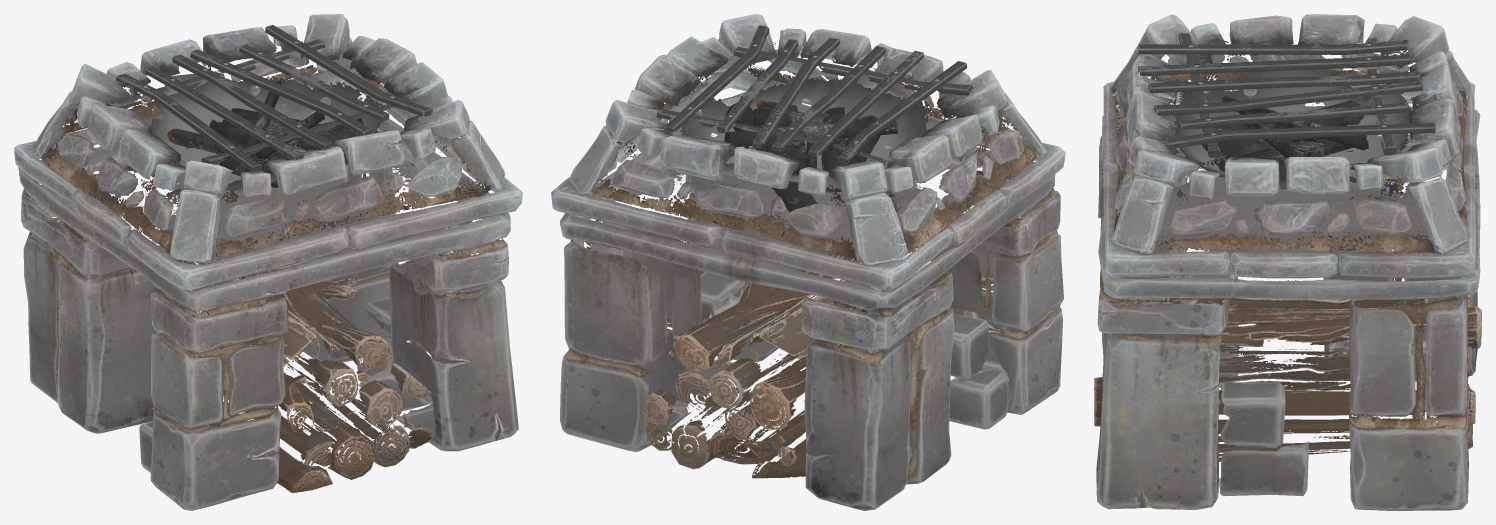
The picture shows the model from 3 angles, left to right: view 1: azimuth 30°, elevation 25°; view 2: azimuth 150°, elevation 25°; view 3: azimuth 270°, elevation 25°; orthographic projection. The views are drawn at different scales.
Parts seen in each view (by area): view 1: SM_T2_Cooking_Station_LOD0; view 2: SM_T2_Cooking_Station_LOD0; view 3: SM_T2_Cooking_Station_LOD0.
Boxes of the visible parts, bbox=[...] form: SM_T2_Cooking_Station_LOD0: bbox=[14, 14, 522, 510]; SM_T2_Cooking_Station_LOD0: bbox=[551, 14, 1065, 510]; SM_T2_Cooking_Station_LOD0: bbox=[1094, 14, 1481, 510].
Size of the model in its own units: 1.14 by 1.02 by 1.03.
1 material, 1 textured.
